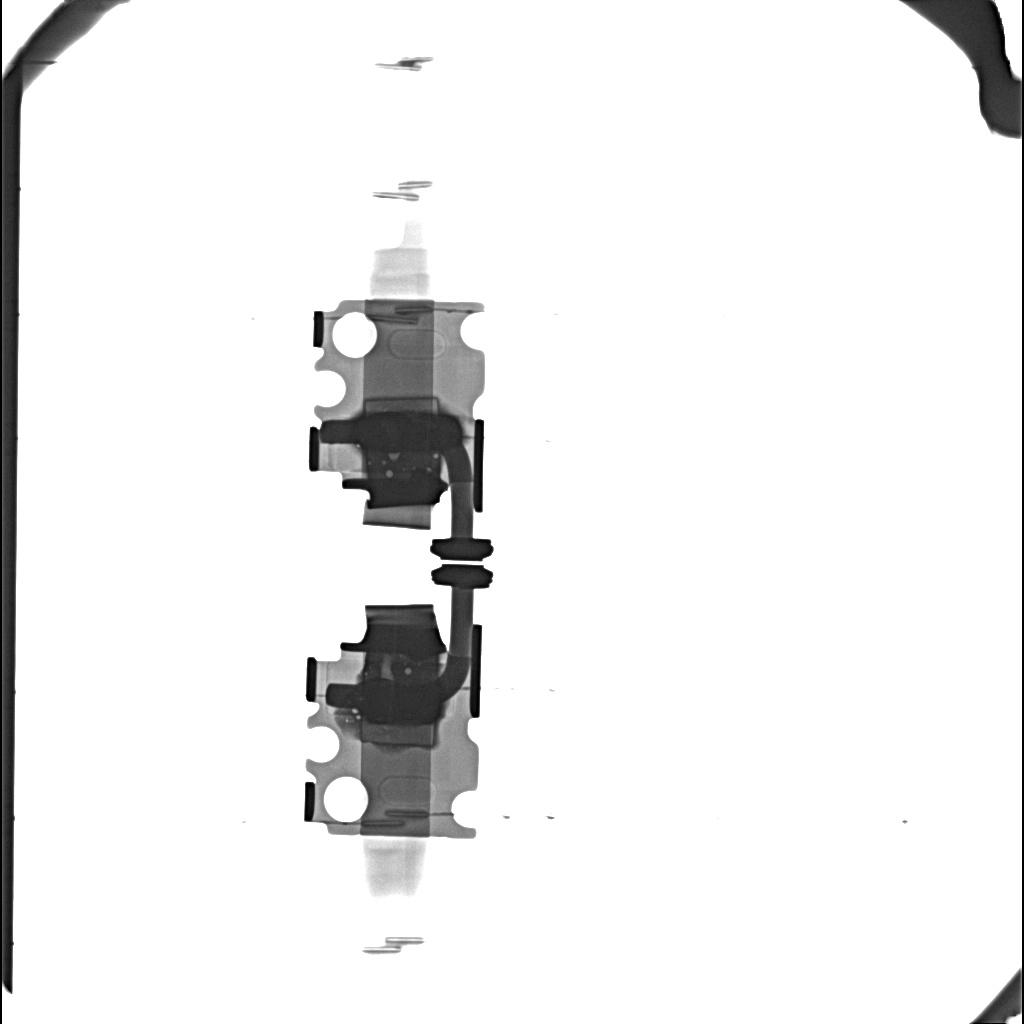PX: (359, 721, 436, 748), (362, 396, 439, 413)
QP: (380, 657, 394, 679), (385, 471, 393, 479), (390, 454, 400, 460), (405, 668, 412, 675)
SX: (355, 414, 460, 452), (352, 683, 441, 723)
